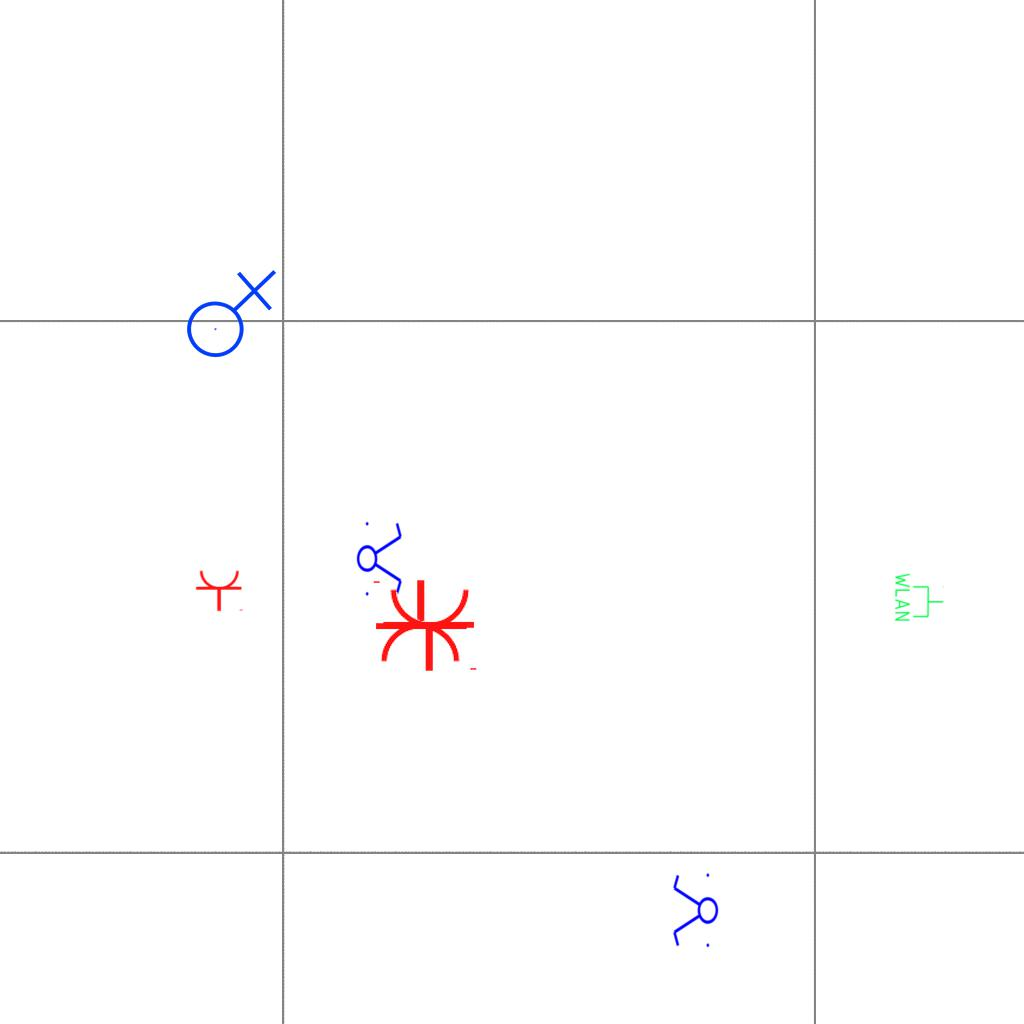Elektroanschluss_allgemein_230V_Geraeteanschlussdose_230V: (178, 265, 277, 359)
Schukosteckdose_einfach: (369, 578, 469, 665), (381, 586, 481, 673), (195, 569, 245, 612)
Serienschalter: (356, 516, 404, 600), (671, 869, 719, 953)
WLAN: (893, 571, 945, 623)
